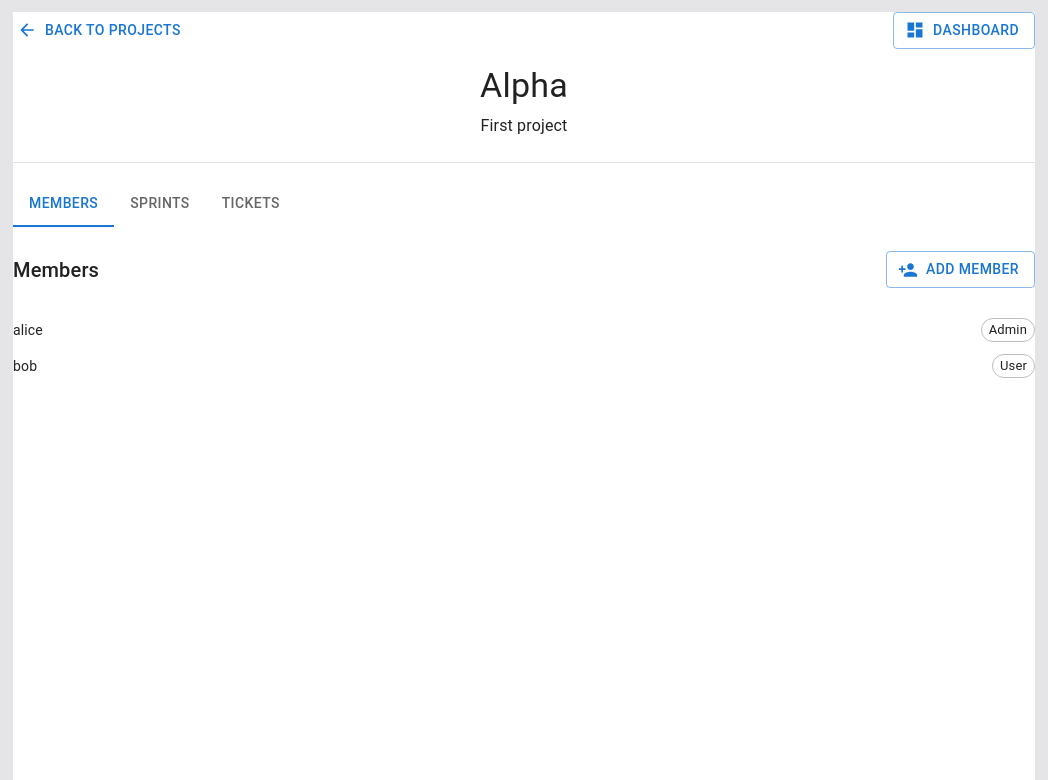
Scenario: ProjectDetailPage › switches to Sprints tab and shows SprintPanel
Click the tab "Sprints" at x=160, y=204, box [114,180,206,228]
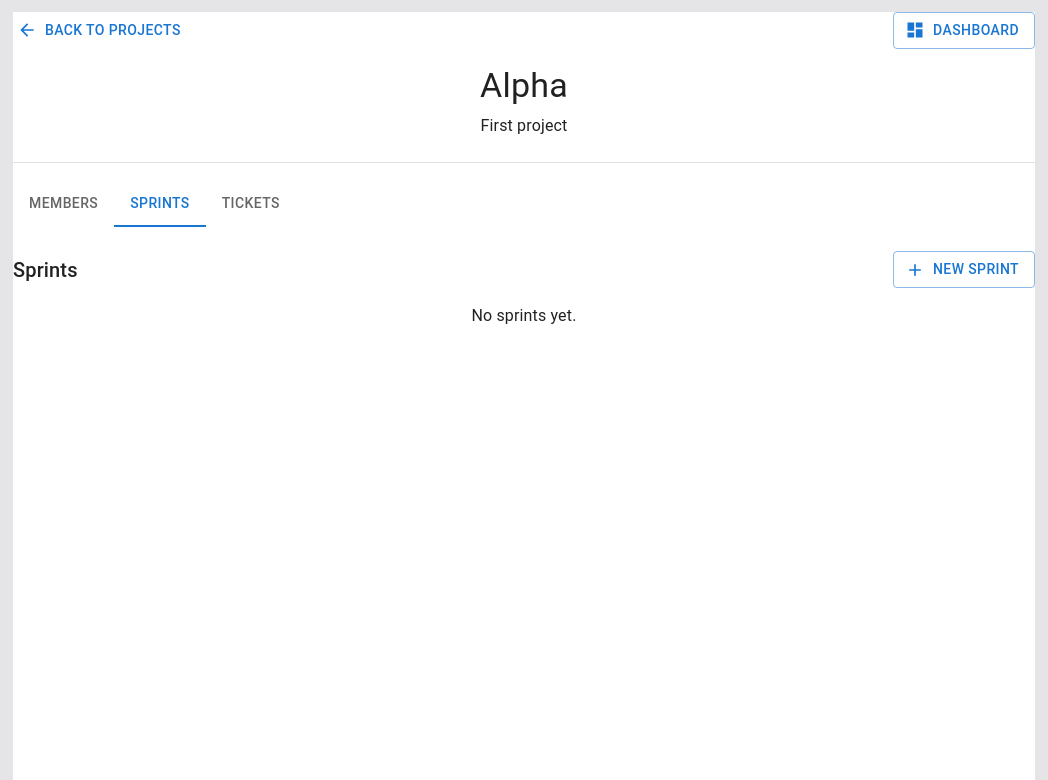
Check: the button "New sprint" is shown, box [893,252,1035,288]
